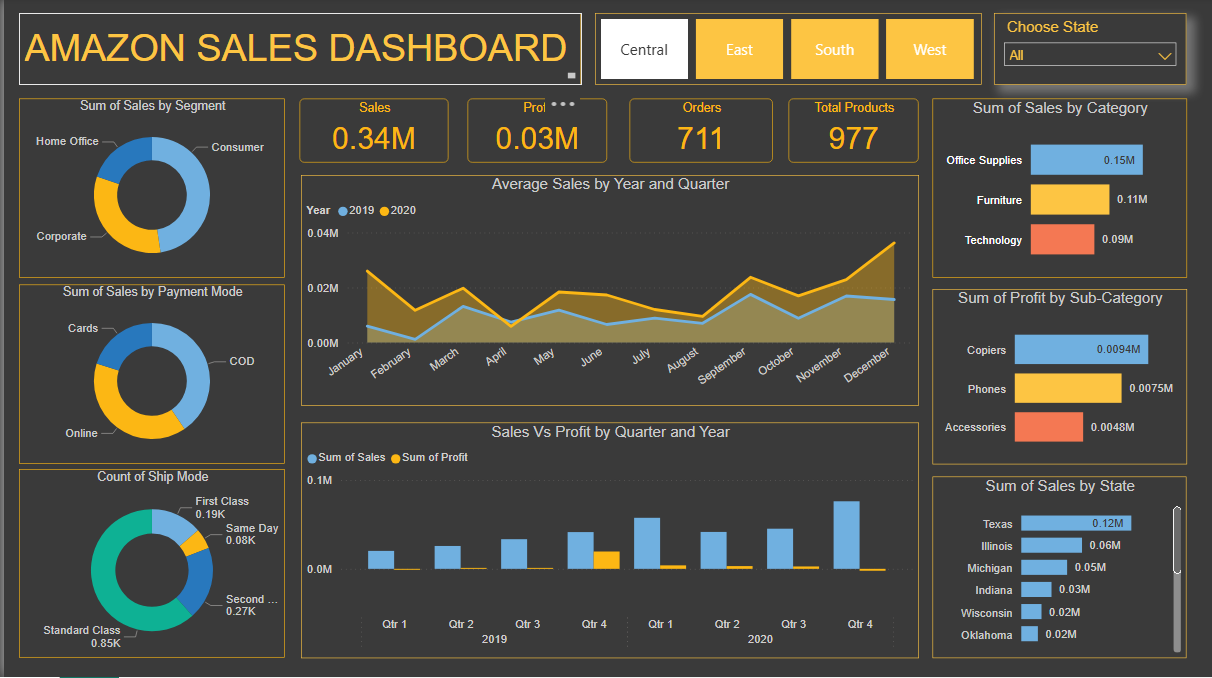

This screenshot's page, from the dashboard's own definition file:
{"tool":"powerbi","page":{"name":"Page 1","canvas":[1280,720],"ordinal":0},"visuals":[{"type":"card","title":"Sales","fields":{"Values":["Sum(Amazon Store Sales Data.Sales)"]},"box":[314,106,158,68],"z":0},{"type":"card","title":"Profit","fields":{"Values":["Sum(Amazon Store Sales Data.Profit)"]},"box":[492,106,148,68],"z":1000},{"type":"card","title":"Total Products","fields":{"Values":["Count(Amazon Store Sales Data.Product ID)"]},"box":[832,106,138,68],"z":2000},{"type":"card","title":"Orders","fields":{"Values":["Count(Amazon Store Sales Data.Order ID)"]},"box":[664,106,152,68],"z":3000},{"type":"donutChart","fields":{"Category":["Amazon Store Sales Data.Segment"],"Y":["Sum(Amazon Store Sales Data.Sales)"]},"box":[16,106,282,190],"z":4000},{"type":"donutChart","fields":{"Category":["Amazon Store Sales Data.Payment Mode"],"Y":["Sum(Amazon Store Sales Data.Sales)"]},"box":[16,304,282,190],"z":5000},{"type":"donutChart","title":"Count of Ship Mode","fields":{"Category":["Amazon Store Sales Data.Ship Mode"],"Y":["CountNonNull(Amazon Store Sales Data.Ship Mode)"]},"box":[16,500,282,200],"z":6000},{"type":"clusteredBarChart","fields":{"Category":["Amazon Store Sales Data.Category"],"Y":["Sum(Amazon Store Sales Data.Sales)"]},"box":[984,106,270,190],"z":7000},{"type":"clusteredBarChart","fields":{"Category":["Amazon Store Sales Data.Sub-Category"],"Y":["Sum(Amazon Store Sales Data.Profit)"]},"box":[984,308,270,186],"z":8000},{"type":"textbox","title":"AMAZON SALES DASHBOARD","box":[16,16,596,76],"z":9000},{"type":"advancedSlicerVisual","fields":{"Values":["Amazon Store Sales Data.Region"]},"box":[626,16,410,76],"z":10000},{"type":"slicer","fields":{"Values":["Amazon Store Sales Data.State"]},"box":[1050,16,204,76],"z":11000},{"type":"clusteredBarChart","fields":{"Category":["Amazon Store Sales Data.State"],"Y":["Sum(Amazon Store Sales Data.Sales)"]},"box":[983.9,507.1,269.6,192.9],"z":12000},{"type":"areaChart","title":"Average Sales by Year and Quarter","fields":{"Y":["Sum(Amazon Store Sales Data.Sales)"],"Category":["Amazon Store Sales Data.Order Date.Variation.Date Hierarchy.Month"],"Series":["Amazon Store Sales Data.Order Date.Variation.Date Hierarchy.Year"]},"box":[314.3,187.5,655.4,244.6],"z":13000},{"type":"lineClusteredColumnComboChart","title":"Sales Vs Profit by Quarter and Year","fields":{"Category":["Amazon Store Sales Data.Order Date.Variation.Date Hierarchy.Year","Amazon Store Sales Data.Order Date.Variation.Date Hierarchy.Quarter"],"Y":["Sum(Amazon Store Sales Data.Sales)","Sum(Amazon Store Sales Data.Profit)"]},"box":[314.4,450.5,655.4,250.3],"z":14000}]}

Visuals, with their boxes in screenshot pixels (x1, y1, x2, y2), scaled from the page's 1280x720 canvas onto the 1212x678 screenshot:
"Sales" card: box(297, 100, 447, 164)
"Profit" card: box(466, 100, 606, 164)
"Total Products" card: box(788, 100, 918, 164)
"Orders" card: box(629, 100, 773, 164)
donutChart - Amazon Store Sales Data.Segment x Sum(Amazon Store Sales Data.Sales): box(15, 100, 282, 279)
donutChart - Amazon Store Sales Data.Payment Mode x Sum(Amazon Store Sales Data.Sales): box(15, 286, 282, 465)
"Count of Ship Mode" donutChart: box(15, 471, 282, 659)
clusteredBarChart - Amazon Store Sales Data.Category x Sum(Amazon Store Sales Data.Sales): box(932, 100, 1187, 279)
clusteredBarChart - Amazon Store Sales Data.Sub-Category x Sum(Amazon Store Sales Data.Profit): box(932, 290, 1187, 465)
"AMAZON SALES DASHBOARD" textbox: box(15, 15, 579, 87)
advancedSlicerVisual - Amazon Store Sales Data.Region: box(593, 15, 981, 87)
slicer - Amazon Store Sales Data.State: box(994, 15, 1187, 87)
clusteredBarChart - Amazon Store Sales Data.State x Sum(Amazon Store Sales Data.Sales): box(932, 478, 1187, 659)
"Average Sales by Year and Quarter" areaChart: box(298, 177, 918, 407)
"Sales Vs Profit by Quarter and Year" lineClusteredColumnComboChart: box(298, 424, 918, 660)
